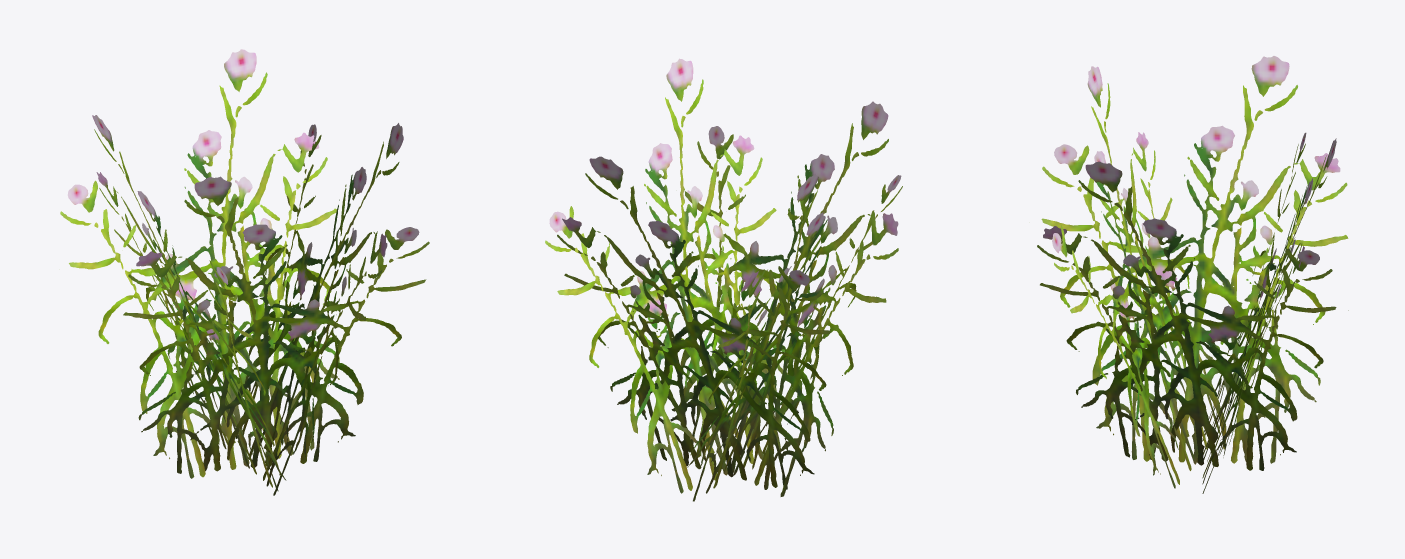
File: yzc_hua01.FBX
3 renders of one model, left to right at view 1: azimuth 30°, elevation 25°; view 2: azimuth 150°, elevation 25°; view 3: azimuth 270°, elevation 25°, orthographic.
Visible parts, largest first — view 1: yzc_hua01; view 2: yzc_hua01; view 3: yzc_hua01.
Boxes of the visible parts, x1=… form: yzc_hua01: x1=60, y1=49, x2=429, y2=495; yzc_hua01: x1=545, y1=58, x2=902, y2=501; yzc_hua01: x1=1037, y1=56, x2=1348, y2=493.
Bounding box in the file's own units: 88.22 × 84.82 × 86.81.
